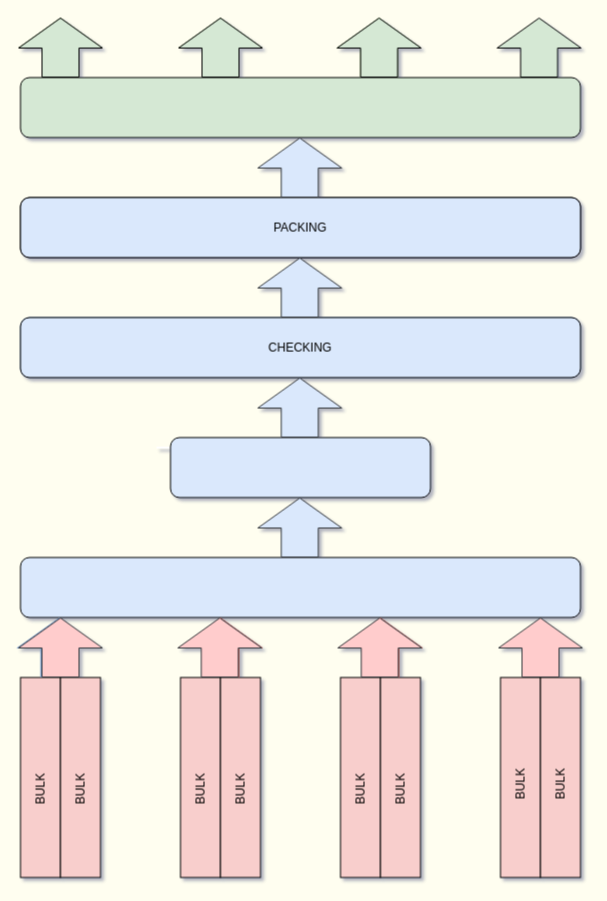
Some shapes in this 607 by 901 pixel diagram are drawn without their labels. Each missing label, with the box of its shape:
CARTS: (170, 436, 430, 498)
DOCKS: (20, 76, 580, 138)
PICKING: (20, 556, 580, 618)
